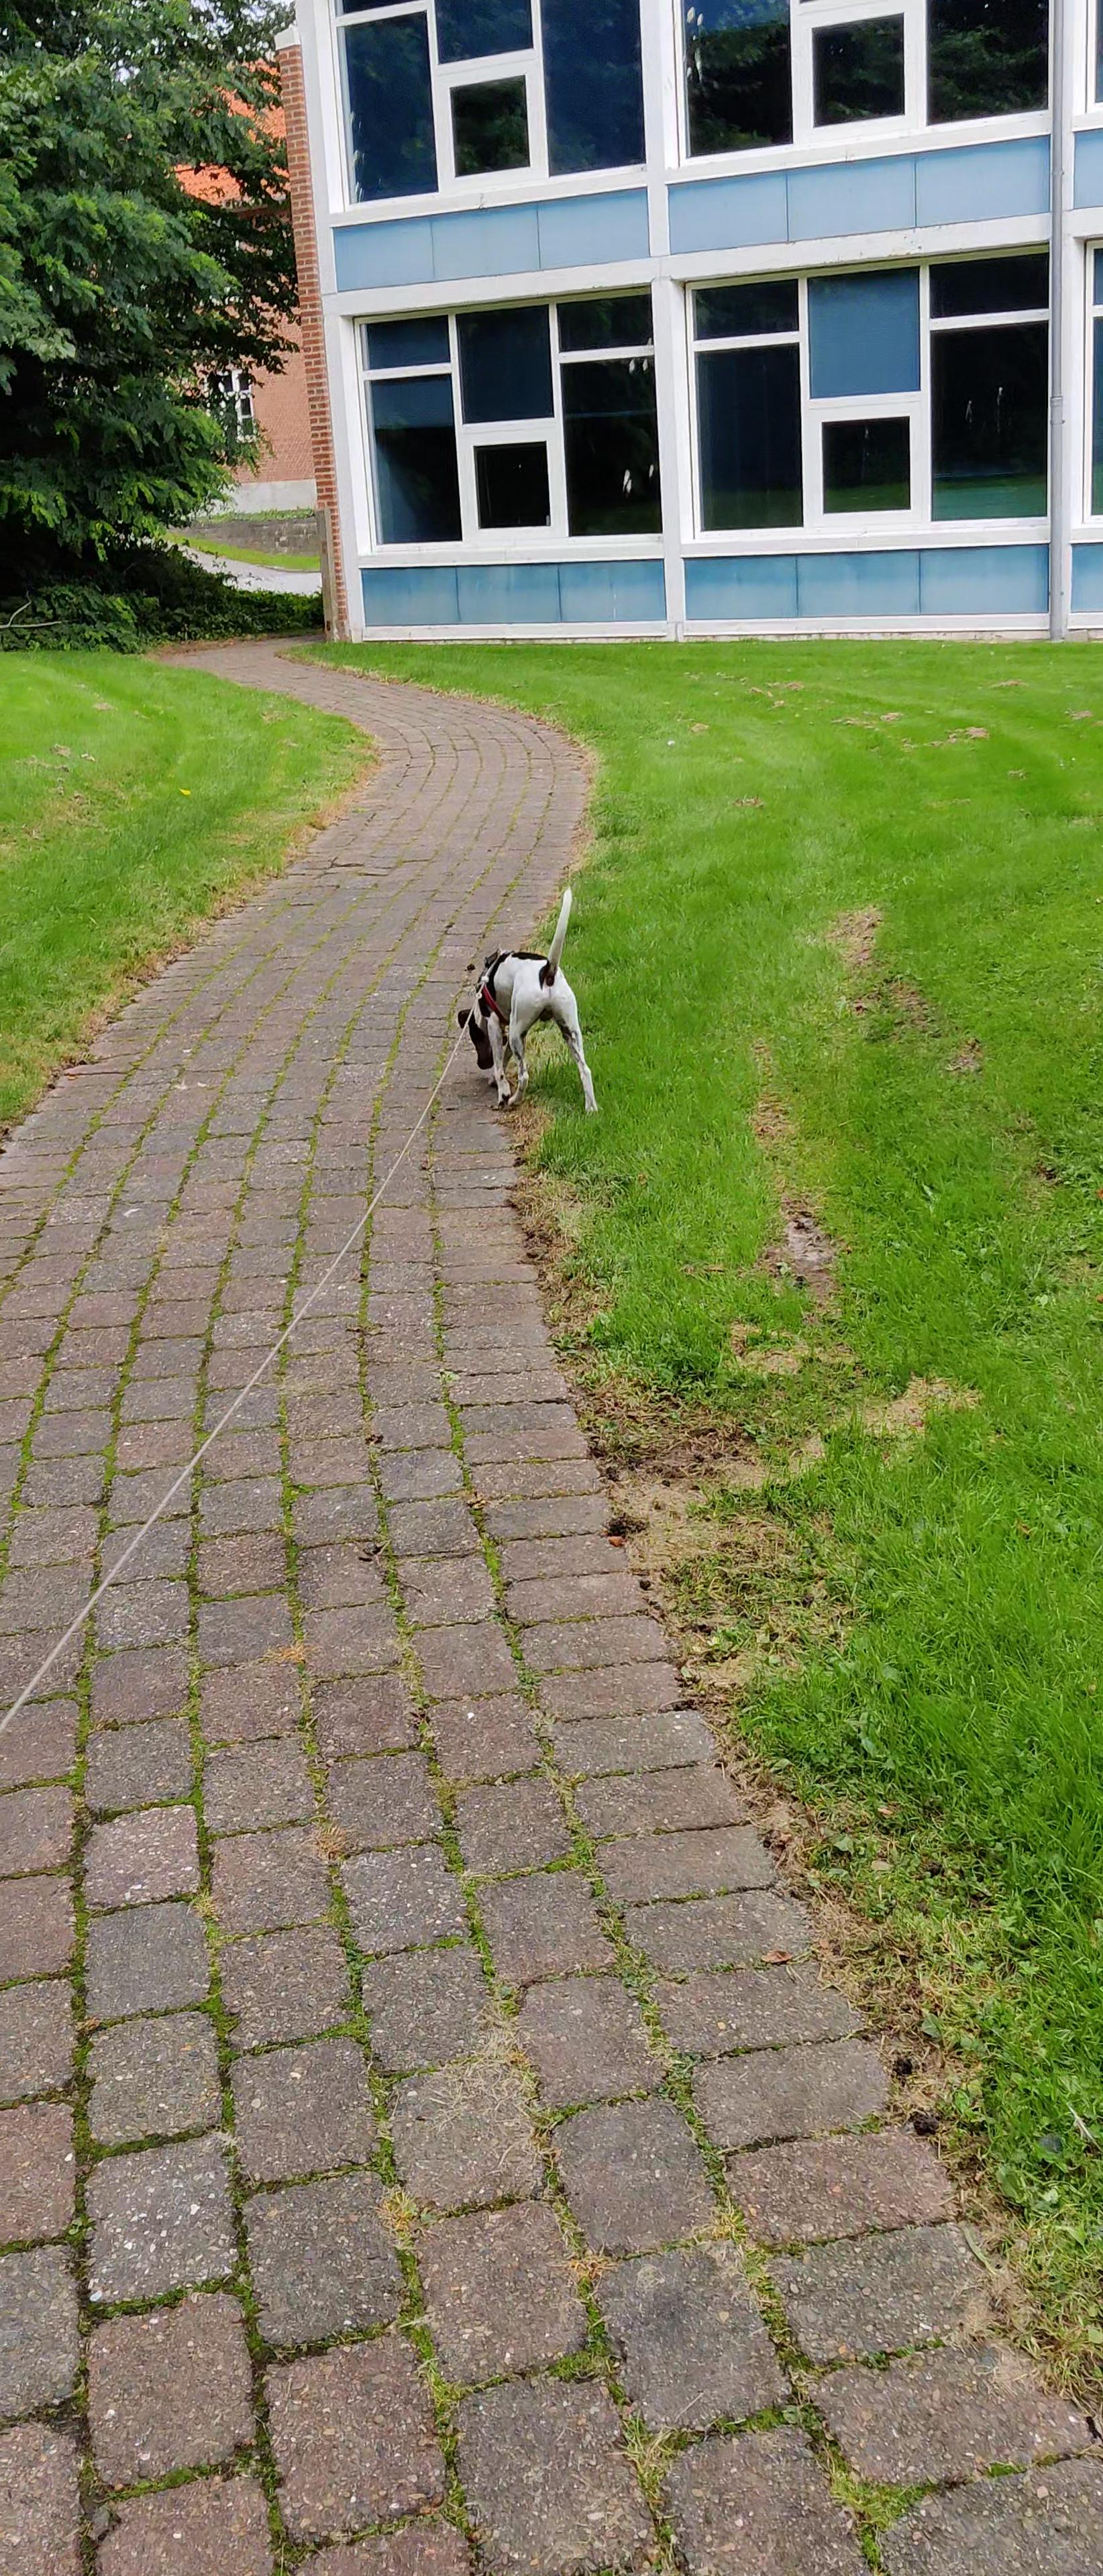Dog: (454, 884, 600, 1115)
